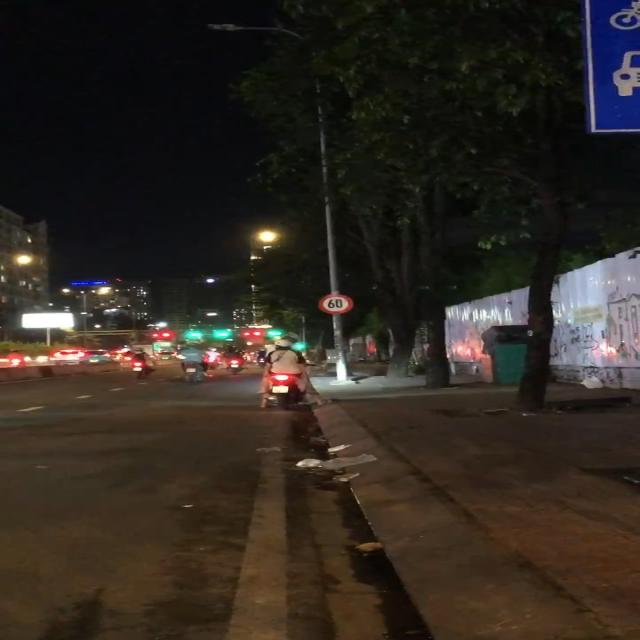Bien bao toc do toi da cho phep: (316, 292, 356, 315)
